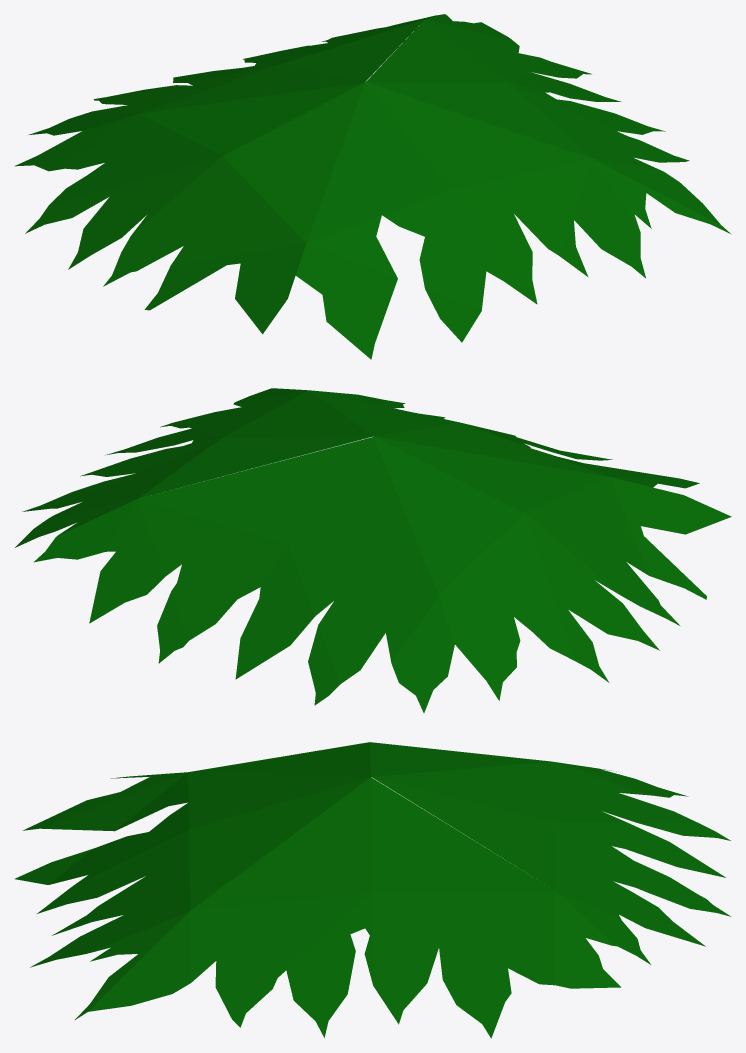
The model's file is Vegetation_Modular_New_Tropical_Plant_Flat_01.FBX.
The picture shows the model from 3 angles, top to bottom: view 1: azimuth 30°, elevation 25°; view 2: azimuth 150°, elevation 25°; view 3: azimuth 270°, elevation 25°; orthographic projection. The views are drawn at different scales.
Visible parts, largest first — view 1: Vegetation_Modular_New_Tropical_Plant_Flat_01; view 2: Vegetation_Modular_New_Tropical_Plant_Flat_01; view 3: Vegetation_Modular_New_Tropical_Plant_Flat_01.
Boxes of the visible parts, x1,y1,x2,y2 form: Vegetation_Modular_New_Tropical_Plant_Flat_01: (14, 14, 730, 359); Vegetation_Modular_New_Tropical_Plant_Flat_01: (15, 388, 731, 712); Vegetation_Modular_New_Tropical_Plant_Flat_01: (15, 742, 731, 1038).
Bounding box in the file's own units: 1792 × 382 × 1788.
